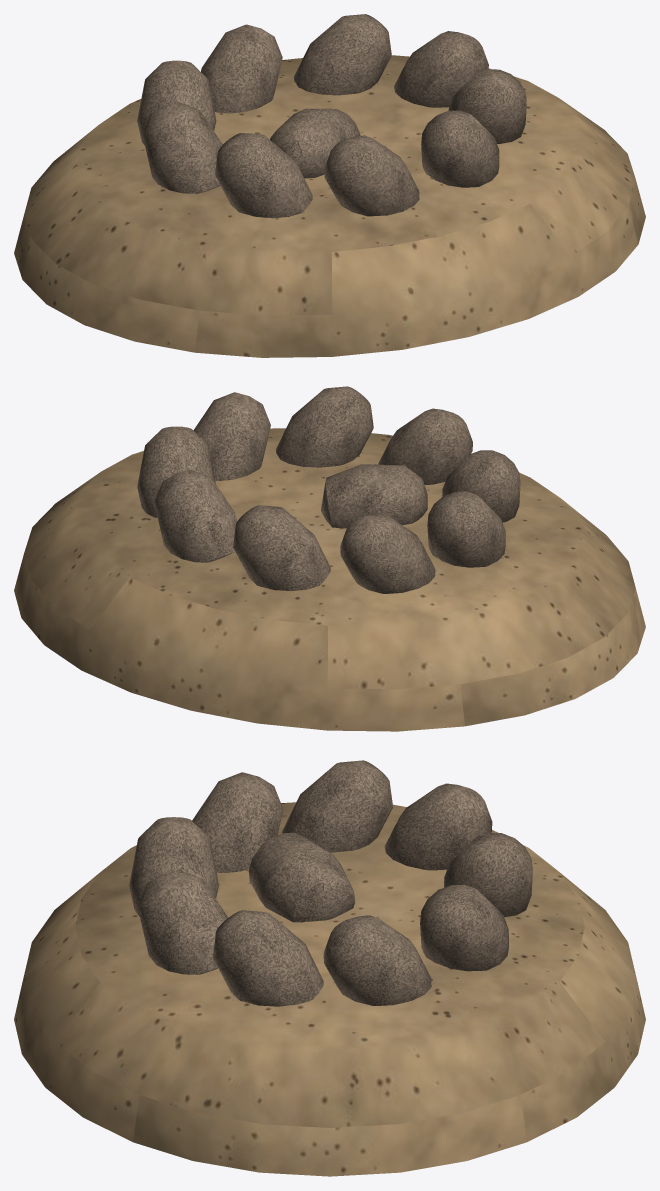
The model's file is fossil-egg-nest.glb.
3 views of the same model, one above another, from view 1: azimuth 30°, elevation 25°; view 2: azimuth 150°, elevation 25°; view 3: azimuth 270°, elevation 25° (orthographic). The views are drawn at different scales.
Visible parts, largest first — view 1: Fossil_Egg_Nest; view 2: Fossil_Egg_Nest; view 3: Fossil_Egg_Nest.
Part boxes in pixels (bbox=[...]): Fossil_Egg_Nest: bbox=[14, 14, 645, 357]; Fossil_Egg_Nest: bbox=[14, 386, 645, 731]; Fossil_Egg_Nest: bbox=[14, 760, 645, 1176].
Bounding box in the file's own units: 1.24 × 0.3261 × 1.05.
2 materials, 2 textured.
